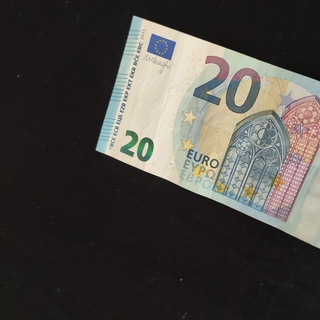20EUROFront: (94, 14, 320, 255)
